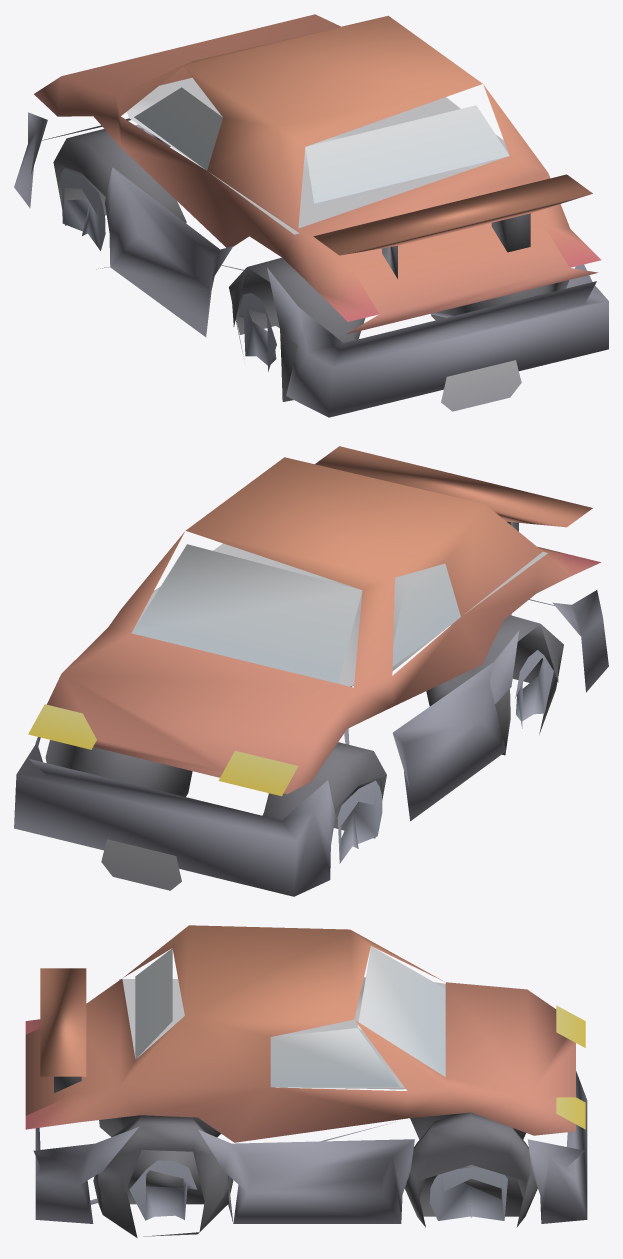
The model's file is car_sedan-sports_lod1.glb.
The picture shows the model from 3 angles, top to bottom: view 1: azimuth 30°, elevation 25°; view 2: azimuth 150°, elevation 25°; view 3: azimuth 270°, elevation 25°; orthographic projection. The views are drawn at different scales.
Bounding box in the file's own units: 1.95 × 1.64 × 3.82.
